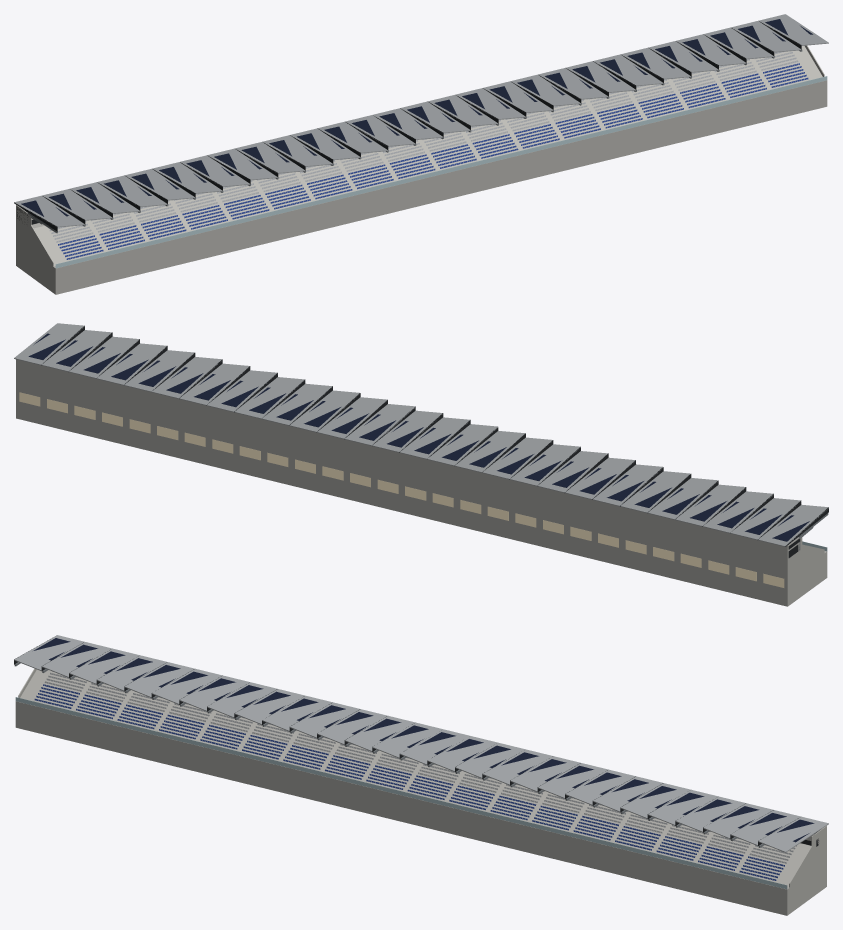
Rendered from rbr_sz_east_c.glb.
The picture shows the model from 3 angles, top to bottom: view 1: azimuth 30°, elevation 25°; view 2: azimuth 150°, elevation 25°; view 3: azimuth 330°, elevation 25°; orthographic projection.
Parts seen in each view (by area): view 1: red-bull-ring-start-ziel-east; view 2: red-bull-ring-start-ziel-east; view 3: red-bull-ring-start-ziel-east.
Part boxes in pixels (box(x1,y1,x2,y2)): red-bull-ring-start-ziel-east: box(14, 14, 828, 294); red-bull-ring-start-ziel-east: box(14, 323, 828, 606); red-bull-ring-start-ziel-east: box(14, 635, 828, 915).
Bounding box in the file's own units: 208 × 17.9 × 20.3.
